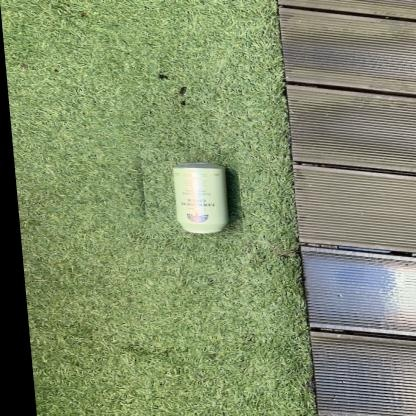trash: (173, 163, 227, 232)
